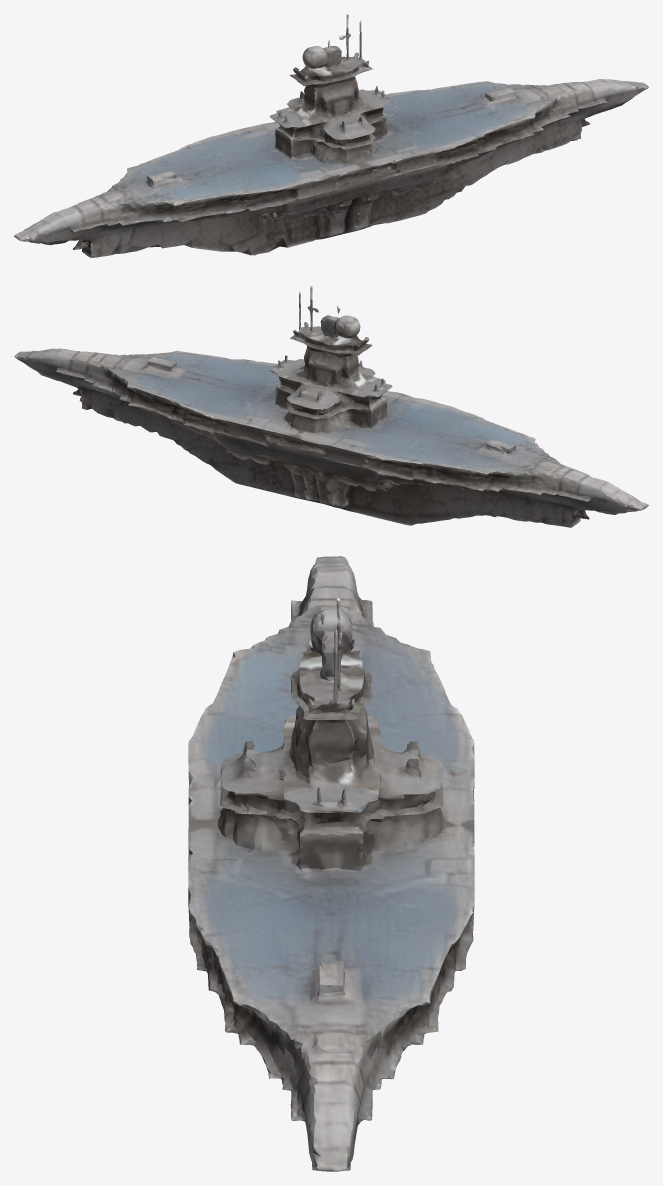
File: military_cruiser.glb
3 views of the same model, one above another, from view 1: azimuth 30°, elevation 25°; view 2: azimuth 150°, elevation 25°; view 3: azimuth 270°, elevation 25° (orthographic). The views are drawn at different scales.
Parts seen in each view (by area): view 1: military_cruiser; view 2: military_cruiser; view 3: military_cruiser.
Boxes of the visible parts, x1,y1,x2,y2 form: military_cruiser: [14, 14, 648, 257]; military_cruiser: [14, 286, 648, 527]; military_cruiser: [188, 556, 474, 1171].
Bounding box in the file's own units: 1.89 × 0.6013 × 0.3735.
1 material, 1 textured.
